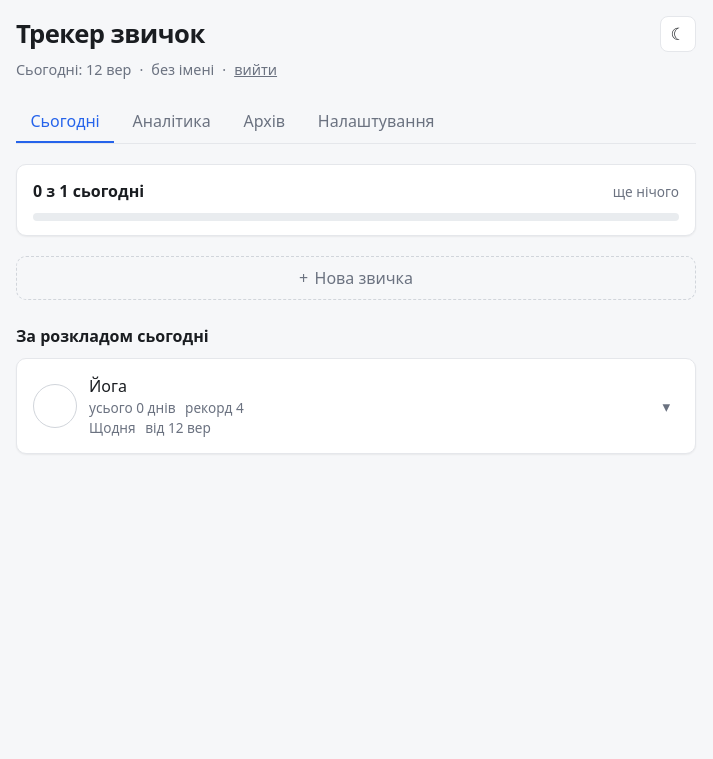
Test: Розклад і профіль › дозволяє безіменному профілю зберегти нагадування без зміни імені
Click the tab "Налаштування" at {"x": 376, "y": 122}, box [303,101,449,143]
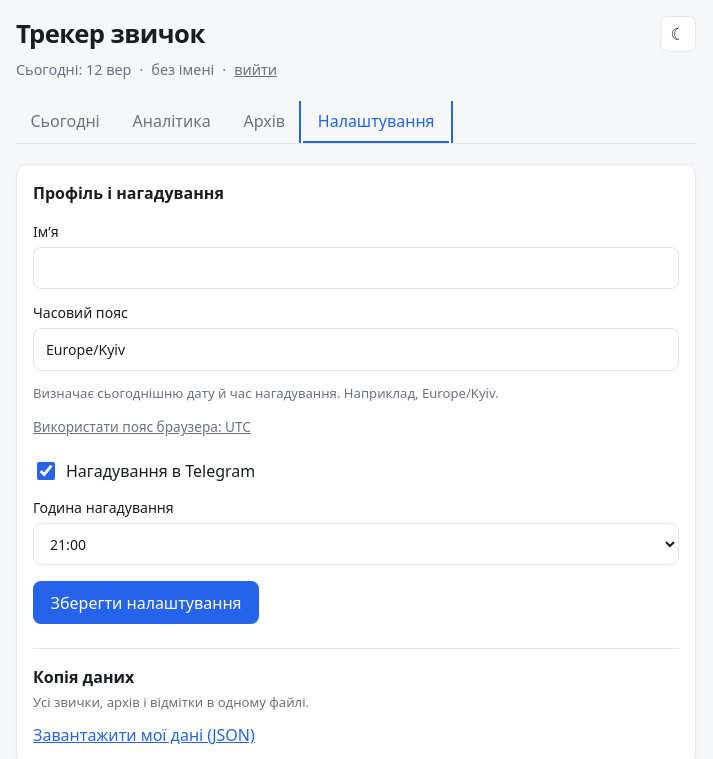
Click the checkbox labelled "Нагадування в Telegram" at {"x": 46, "y": 472}, box [37,462,55,480]
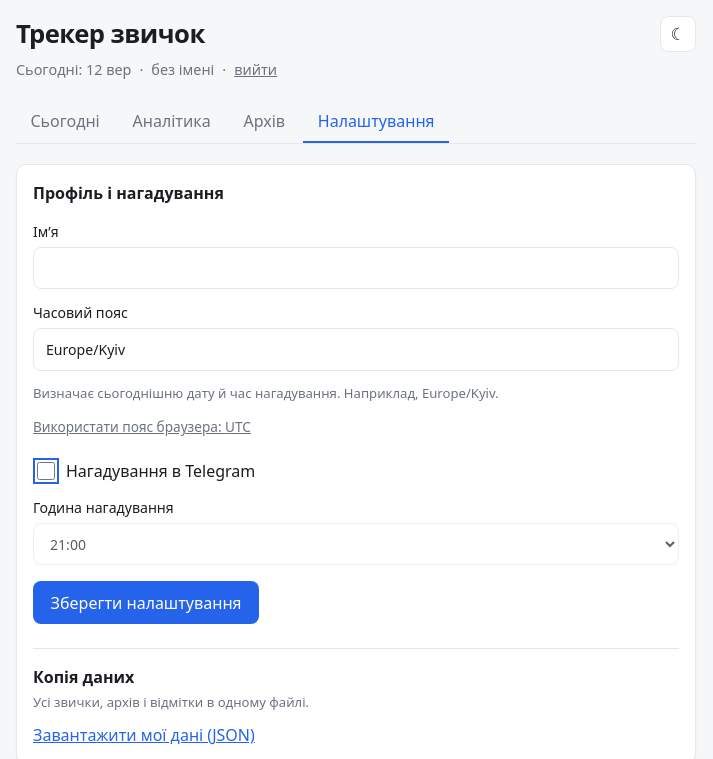
Click the button "Зберегти налаштування" at {"x": 146, "y": 603}, box [33,581,259,624]
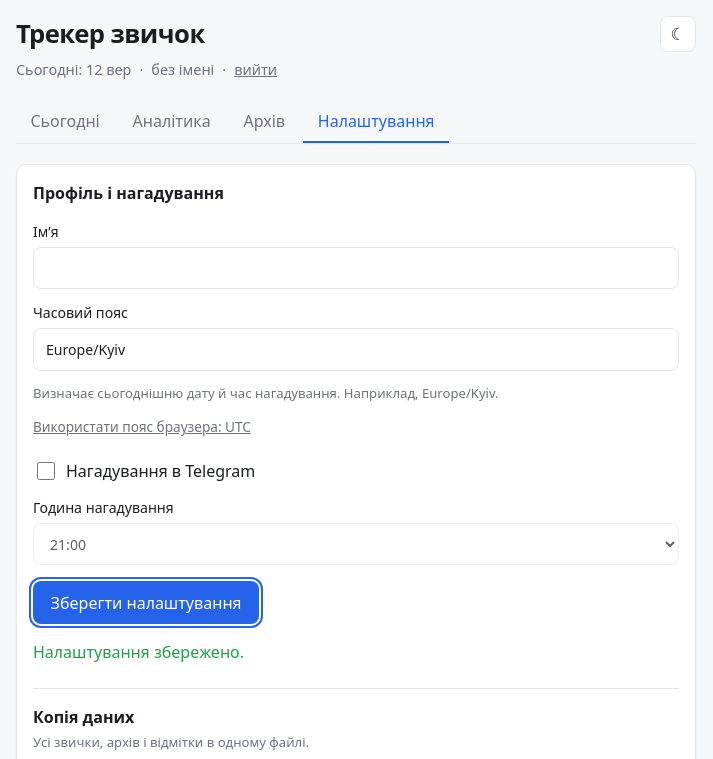
Check: the message "Налаштування збережено." is shown, box [33,641,244,663]
